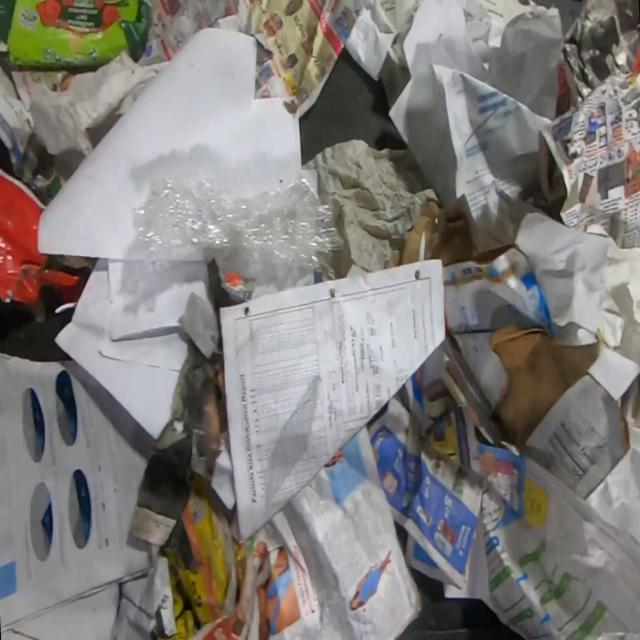cardboard: (488, 325, 640, 499), (0, 52, 157, 191), (442, 243, 552, 412), (0, 0, 152, 71), (388, 199, 474, 268)
rigid_plastic: (0, 167, 90, 314)
soft_plastic: (128, 172, 346, 292)
